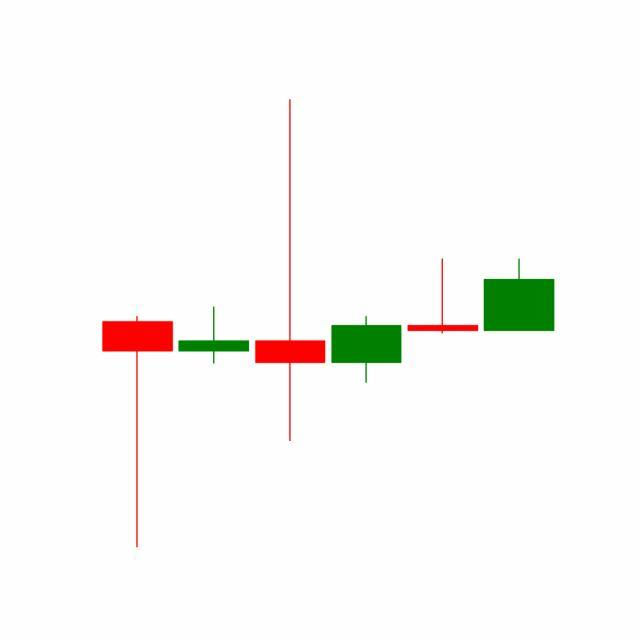Gravestone Doji: (404, 258, 482, 335)
